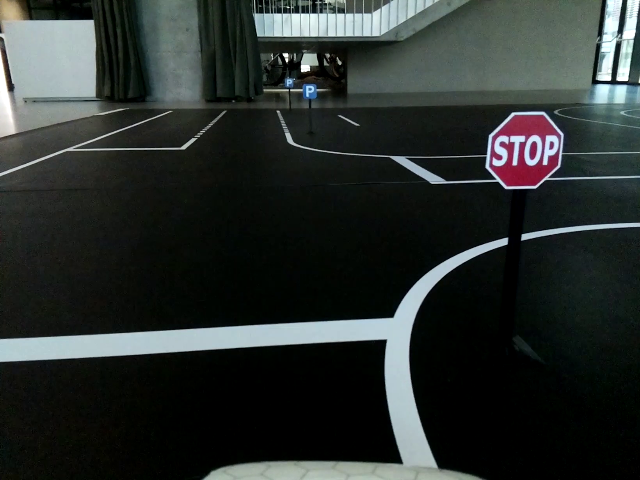stop: (482, 110, 564, 191)
